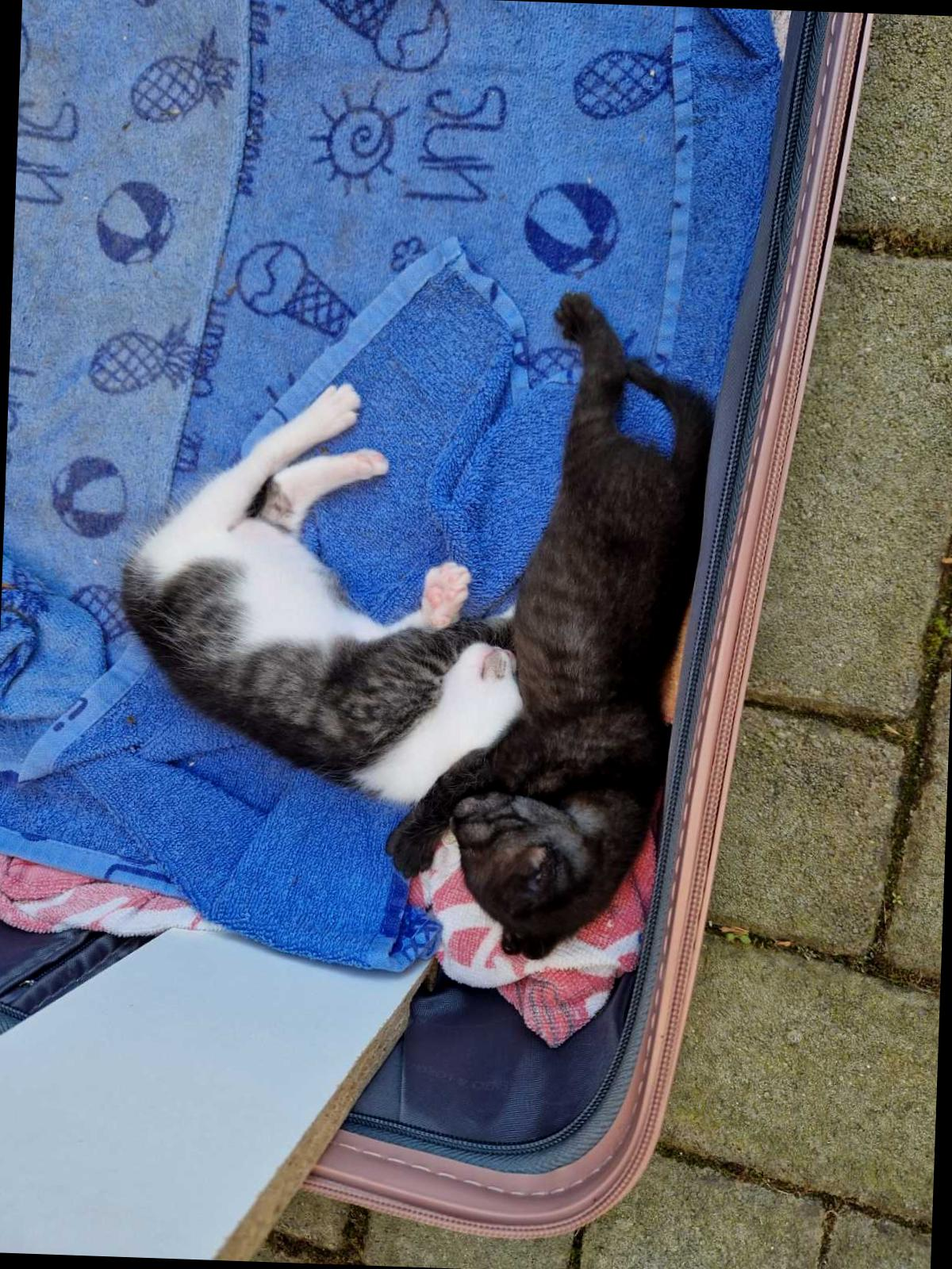macka: (381, 277, 721, 983), (125, 377, 545, 847)
